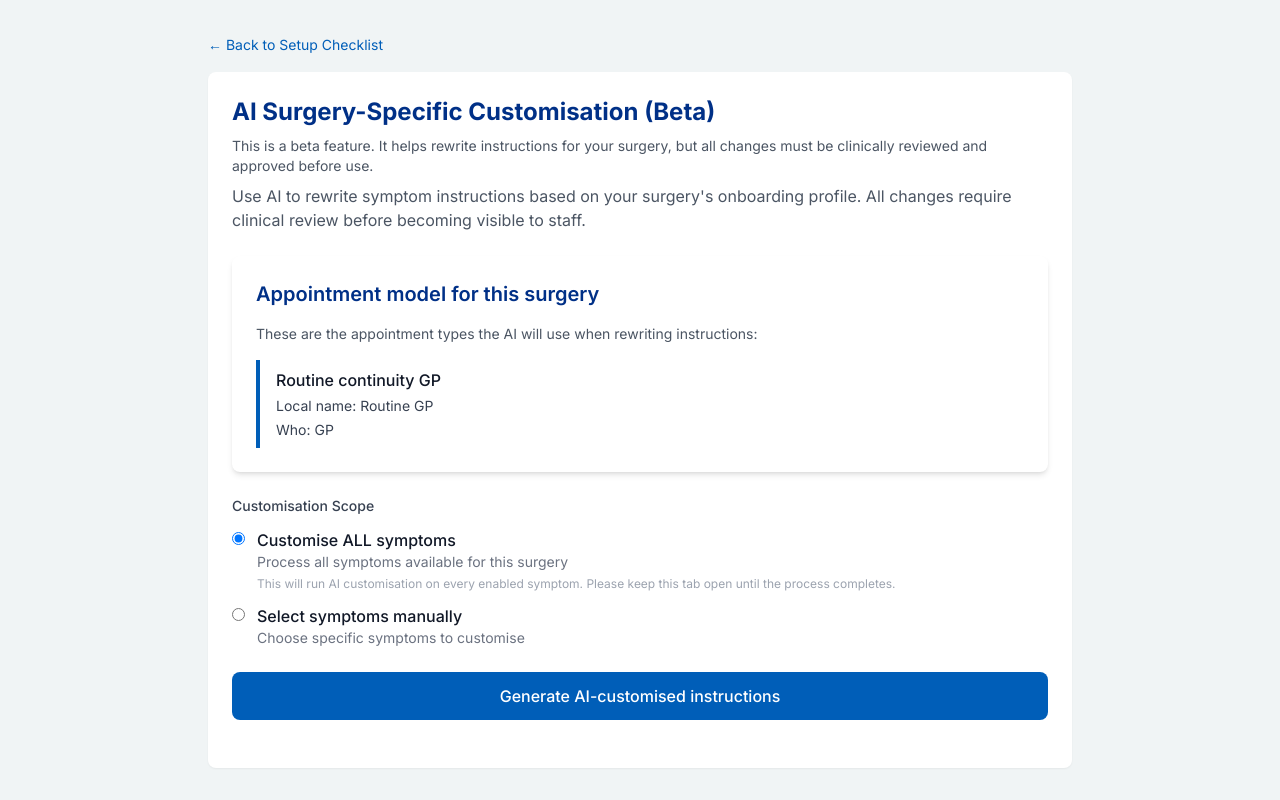
Scenario: AISetupClient — whole-library customisation › does not start customising until the warning is confirmed
The width and height of the screenshot is (1280, 800).
What coordinates should you click on to do the following:
click the button "Generate AI-customised instructions"
I would click on:
 (640, 696)
Its box is x1=232 y1=672 x2=1048 y2=720.
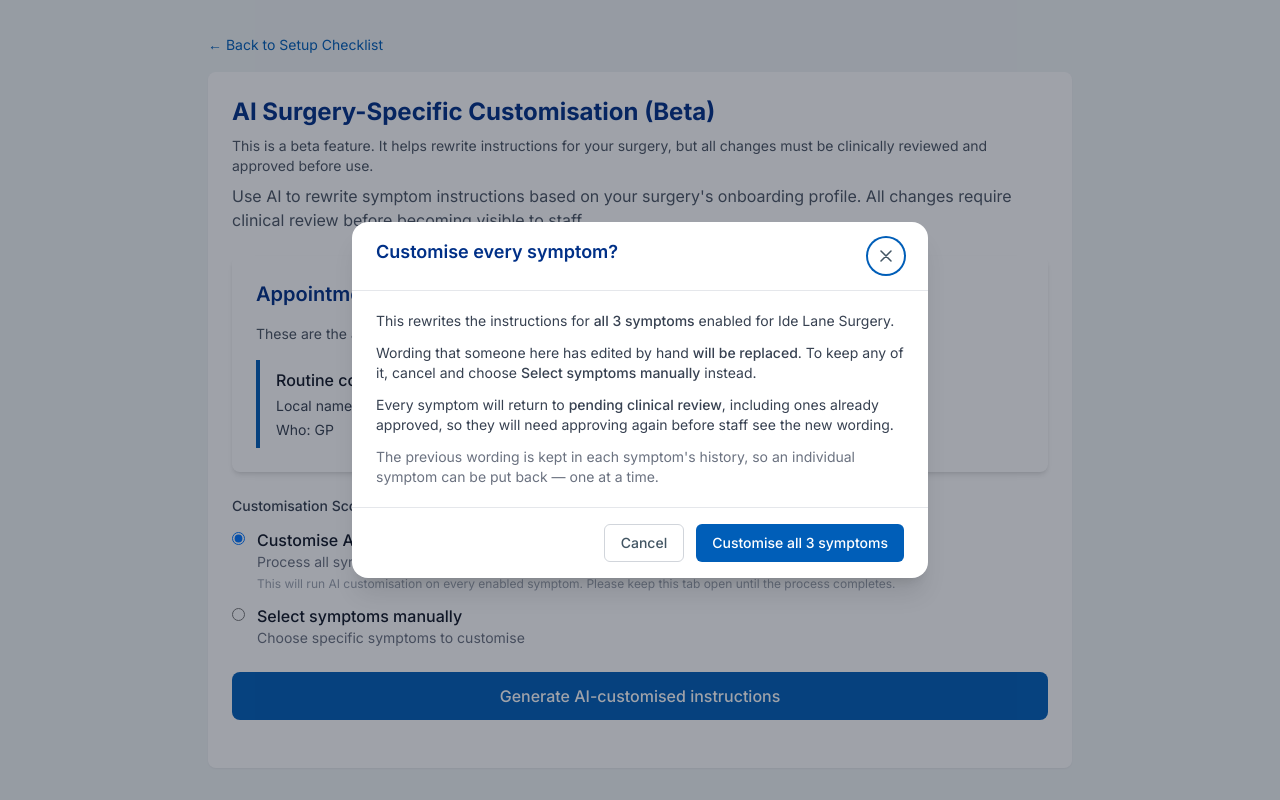
Expected: the heading "Customise every symptom?" is shown, x1=376 y1=241 x2=618 y2=262
